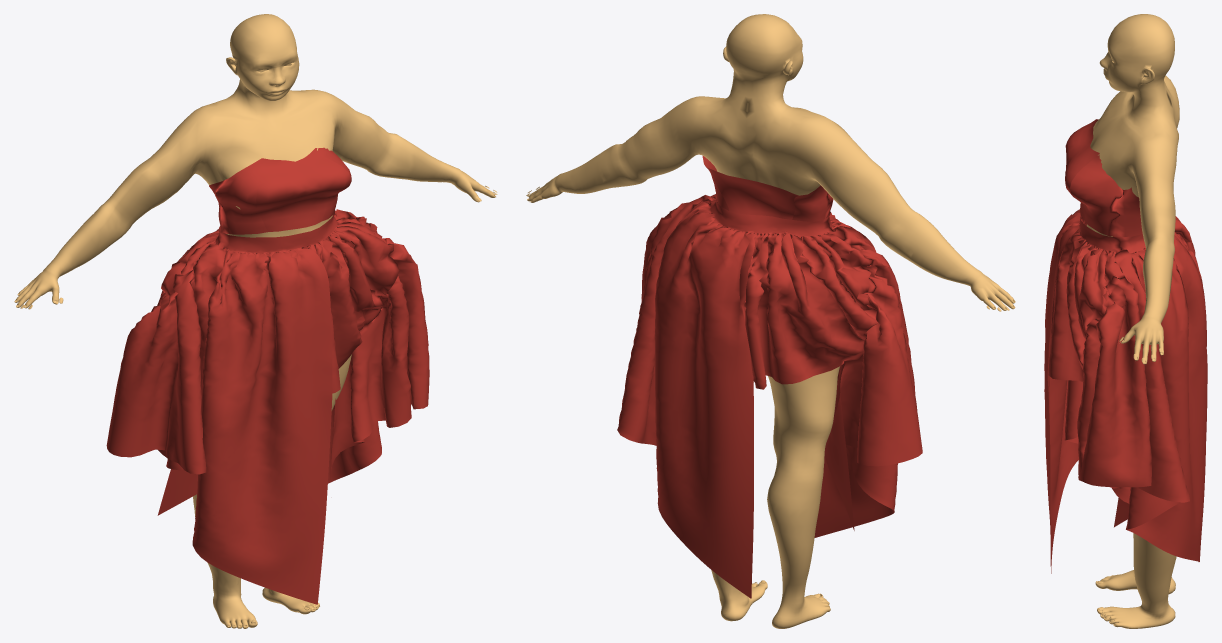
Rendered from dress2.glb.
3 renders of one model, left to right at view 1: azimuth 30°, elevation 25°; view 2: azimuth 150°, elevation 25°; view 3: azimuth 270°, elevation 25°, orthographic.
Visible parts, largest first — view 1: Project 1, Body; view 2: Project 1, Body; view 3: Project 1, Body.
Part boxes in pixels (x1,y1,x2,y2): Project 1: [106, 147, 429, 604]; Body: [14, 14, 495, 628]; Project 1: [617, 156, 922, 598]; Body: [527, 14, 1015, 628]; Project 1: [1044, 119, 1207, 573]; Body: [1086, 14, 1179, 628].
Size of the model in its own units: 1.59 by 1.88 by 0.4668.
